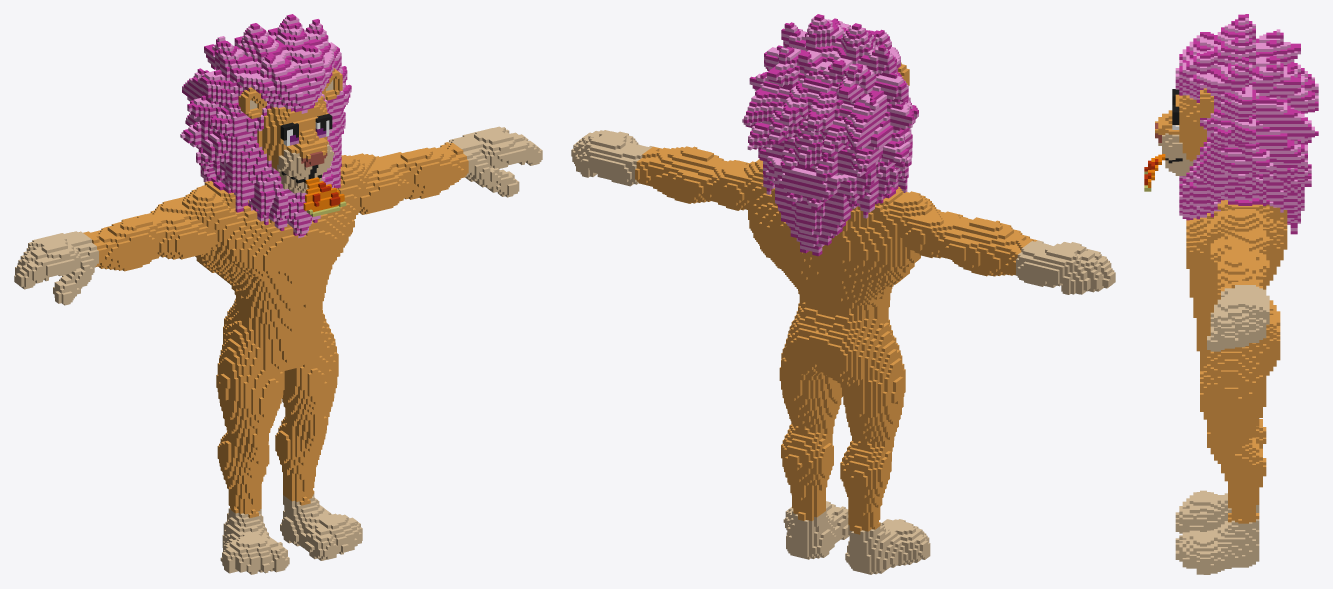
The model's file is 932-BHLua87Z.glb.
The picture shows the model from 3 angles, left to right: view 1: azimuth 30°, elevation 25°; view 2: azimuth 150°, elevation 25°; view 3: azimuth 270°, elevation 25°; orthographic projection. The views are drawn at different scales.
Parts seen in each view (by area): view 1: pizza; view 2: pizza; view 3: pizza.
Boxes of the visible parts, left/top/right/bottom form: pizza: left=14, top=14, right=542, bottom=574; pizza: left=571, top=14, right=1115, bottom=574; pizza: left=1144, top=14, right=1318, bottom=574.
Bounding box in the file's own units: 17.2 × 16.5 × 5.
Materials: 4 (4 with a texture image).
